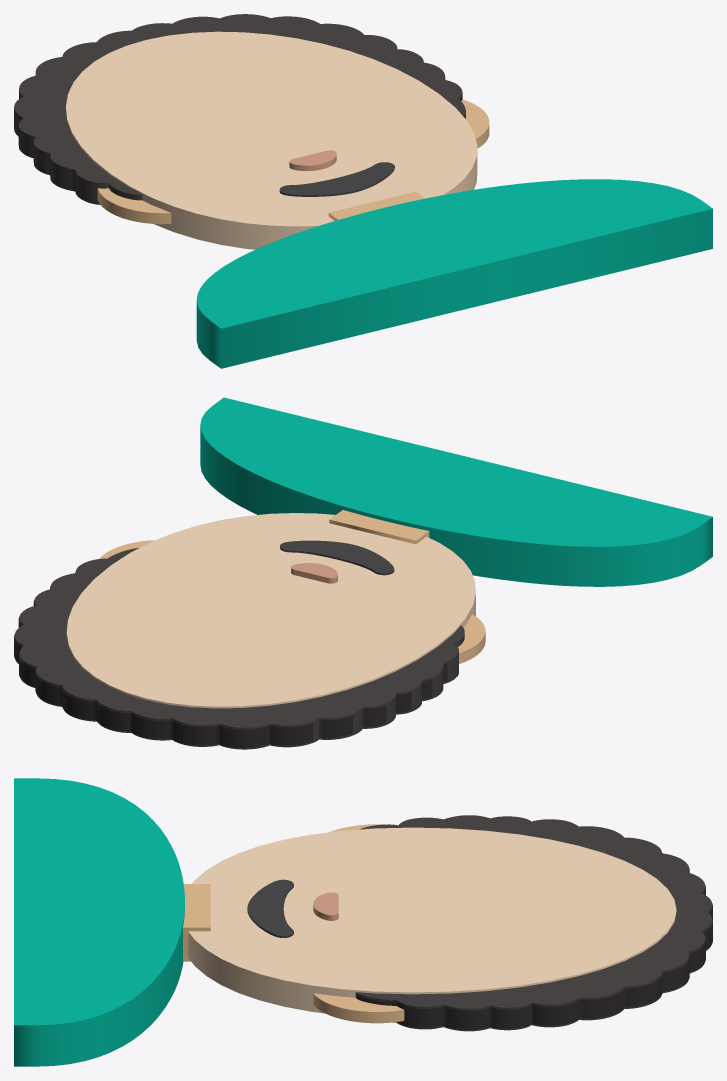
Rendered from emoji_u1f468_1f3fb_200d_1f9b1.glb.
The picture shows the model from 3 angles, top to bottom: view 1: azimuth 30°, elevation 25°; view 2: azimuth 150°, elevation 25°; view 3: azimuth 270°, elevation 25°; orthographic projection. The views are drawn at different scales.
Parts seen in each view (by area): view 1: emoji_u1f468_1f3fb_200d_1f9b1; view 2: emoji_u1f468_1f3fb_200d_1f9b1; view 3: emoji_u1f468_1f3fb_200d_1f9b1.
Boxes of the visible parts, <box> form: emoji_u1f468_1f3fb_200d_1f9b1: <box>14,14,712,368</box>; emoji_u1f468_1f3fb_200d_1f9b1: <box>14,397,712,749</box>; emoji_u1f468_1f3fb_200d_1f9b1: <box>14,778,712,1066</box>.
Bounding box in the file's own units: 0.0282 × 0.0022 × 0.0337.
